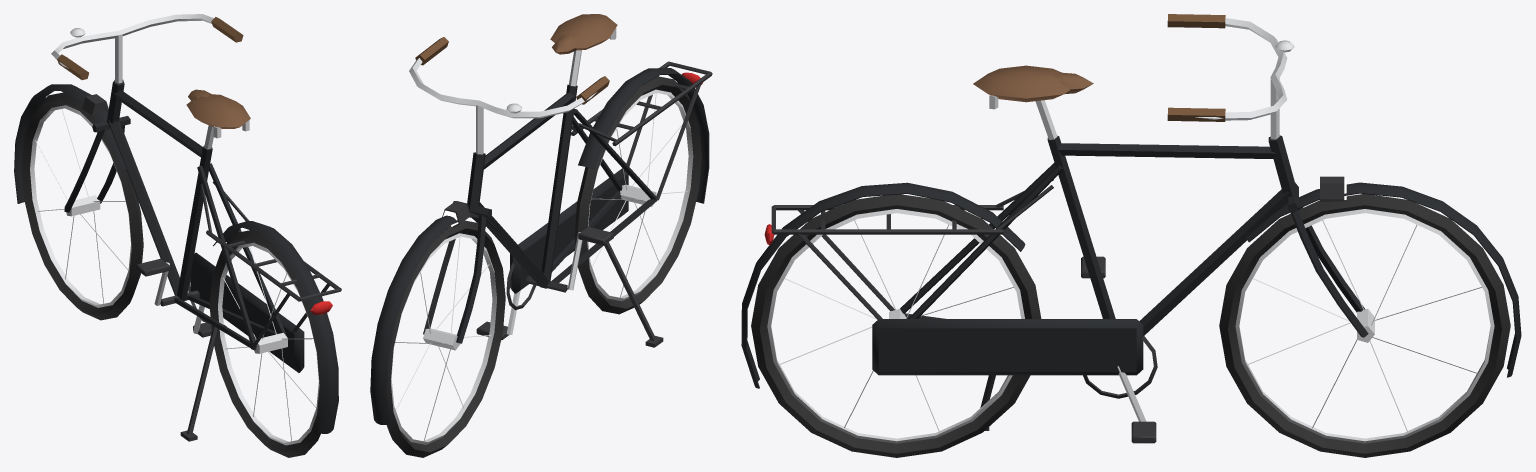
The model's file is bike_opa_low.glb.
The picture shows the model from 3 angles, left to right: view 1: azimuth 30°, elevation 25°; view 2: azimuth 150°, elevation 25°; view 3: azimuth 270°, elevation 25°; orthographic projection. The views are drawn at different scales.
Visible parts, largest first — view 1: frame, wheel_front, wheel_rear, crank, stand; view 2: frame, wheel_rear, wheel_front, crank, stand; view 3: frame, wheel_front, wheel_rear, crank.
Boxes of the visible parts, box(x1,y1,x2,y2) form: frame: box(14, 14, 341, 433); wheel_front: box(21, 92, 143, 320); wheel_rear: box(209, 230, 322, 457); crank: box(136, 258, 226, 337); stand: box(180, 326, 217, 441); frame: box(370, 14, 712, 424); wheel_rear: box(574, 76, 701, 314); wheel_front: box(386, 220, 505, 457); crank: box(476, 227, 613, 339); stand: box(604, 242, 663, 347); frame: box(741, 14, 1521, 388); wheel_front: box(1219, 194, 1510, 457); wheel_rear: box(751, 194, 1041, 457); crank: box(1081, 256, 1157, 443).
Size of the model in its own units: 0.5766 by 1.07 by 1.9.
